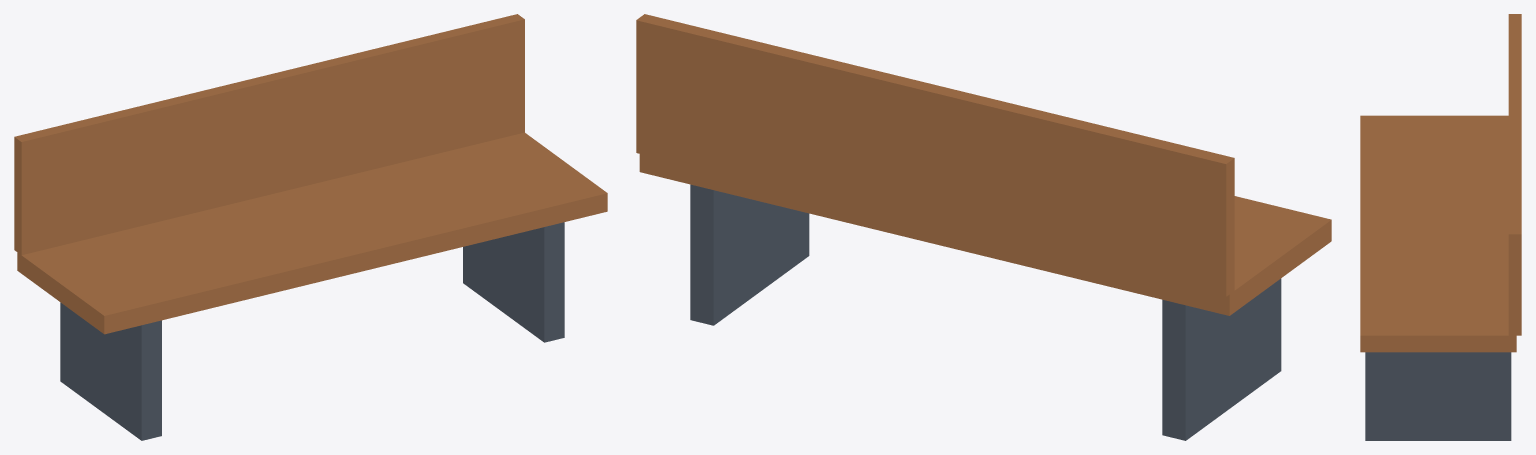
Rendered from prop_bench.glb.
3 views of the same model, side by side, from view 1: azimuth 30°, elevation 25°; view 2: azimuth 150°, elevation 25°; view 3: azimuth 270°, elevation 25° (orthographic). The views are drawn at different scales.
Parts seen in each view (by area): view 1: prop_bench_LOD0; view 2: prop_bench_LOD0; view 3: prop_bench_LOD0.
Boxes of the visible parts, <box> form: prop_bench_LOD0: <box>14,14,607,440</box>; prop_bench_LOD0: <box>636,14,1331,440</box>; prop_bench_LOD0: <box>1360,14,1521,440</box>.
Size of what is drawn, in the model's own units: 2 by 0.95 by 0.62.
Materials: 1 (1 with a texture image).
